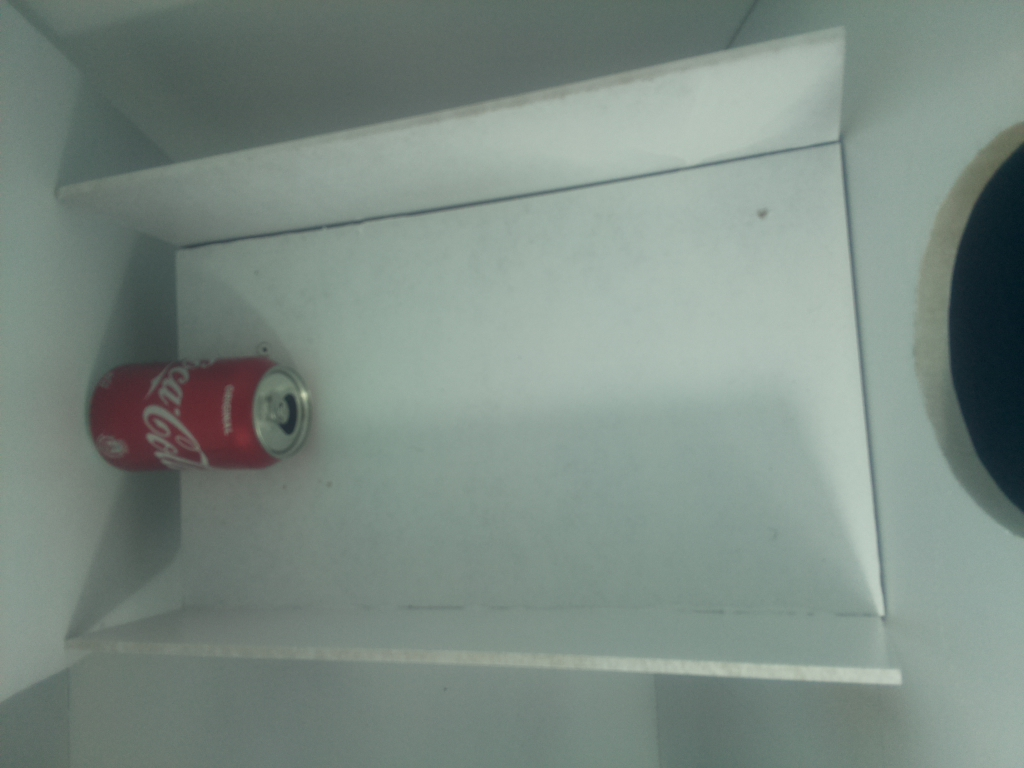kaleng: (93, 359, 316, 469)
